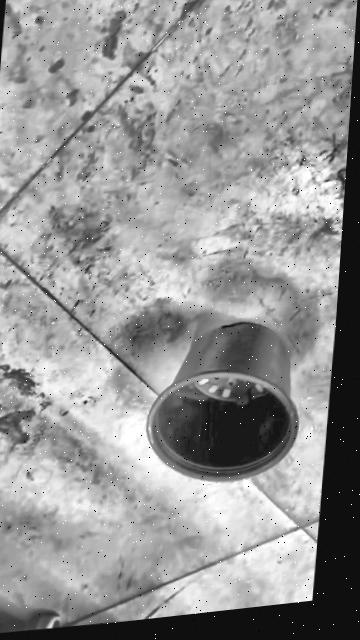pot: (143, 315, 308, 493)
